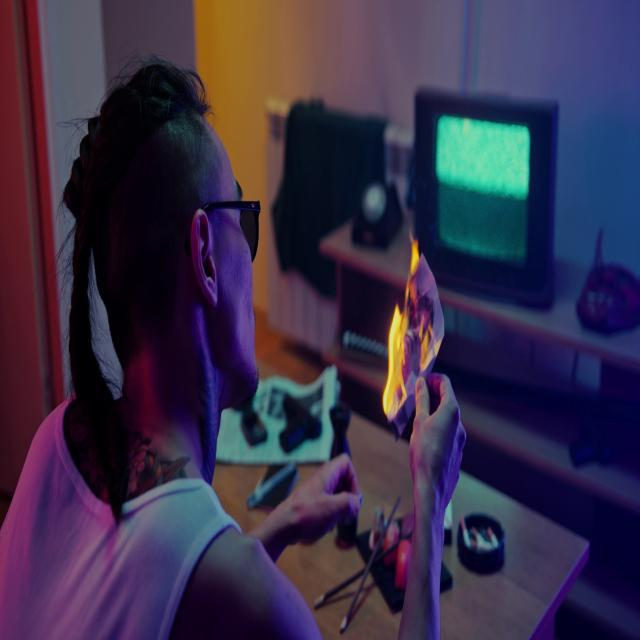Fire: (380, 228, 423, 413)
